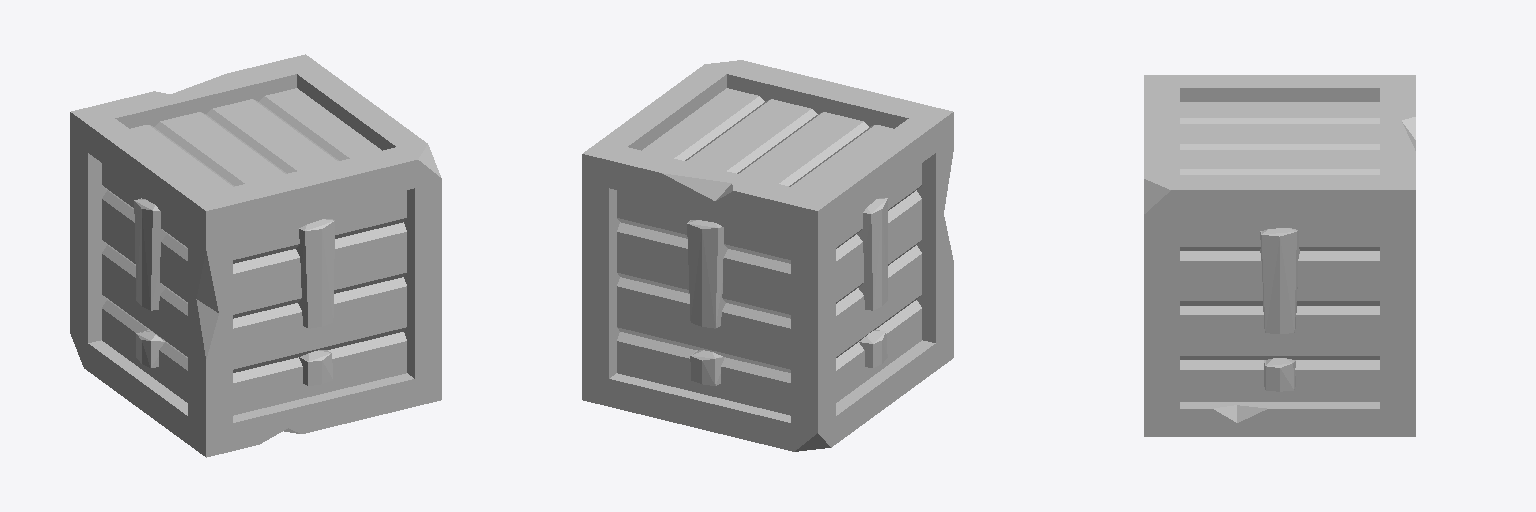
File: paintable_box.obj
The picture shows the model from 3 angles: view 1: azimuth 30°, elevation 25°; view 2: azimuth 150°, elevation 25°; view 3: azimuth 270°, elevation 25°; orthographic projection.
Visible parts, largest first — view 1: SM_Prop_Crate_Exclamation_01_Mesh.008; view 2: SM_Prop_Crate_Exclamation_01_Mesh.008; view 3: SM_Prop_Crate_Exclamation_01_Mesh.008.
Part boxes in pixels (left/top/right/bottom): SM_Prop_Crate_Exclamation_01_Mesh.008: left=70, top=54, right=441, bottom=457; SM_Prop_Crate_Exclamation_01_Mesh.008: left=582, top=60, right=953, bottom=451; SM_Prop_Crate_Exclamation_01_Mesh.008: left=1144, top=75, right=1415, bottom=436.
Bounding box in the file's own units: 0.9965 × 0.9965 × 0.9965.